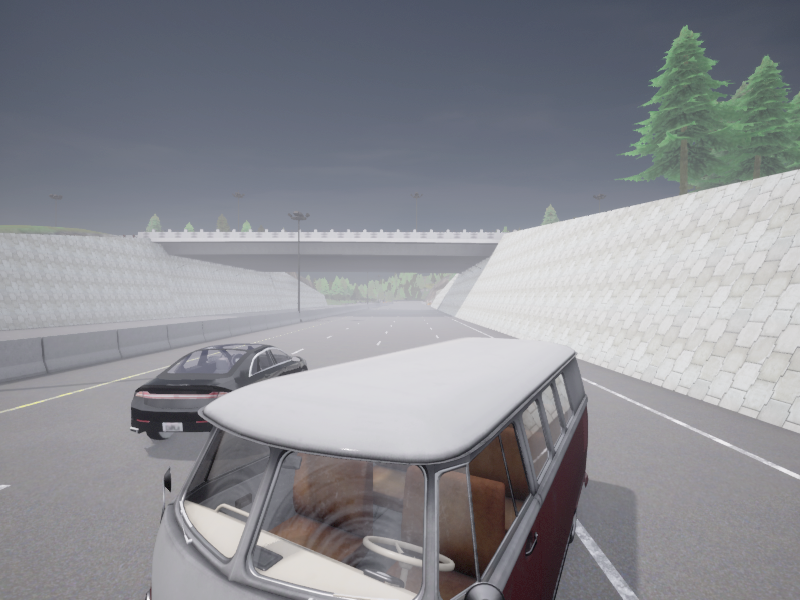vehicle: (144, 337, 588, 599), (129, 344, 307, 439)
